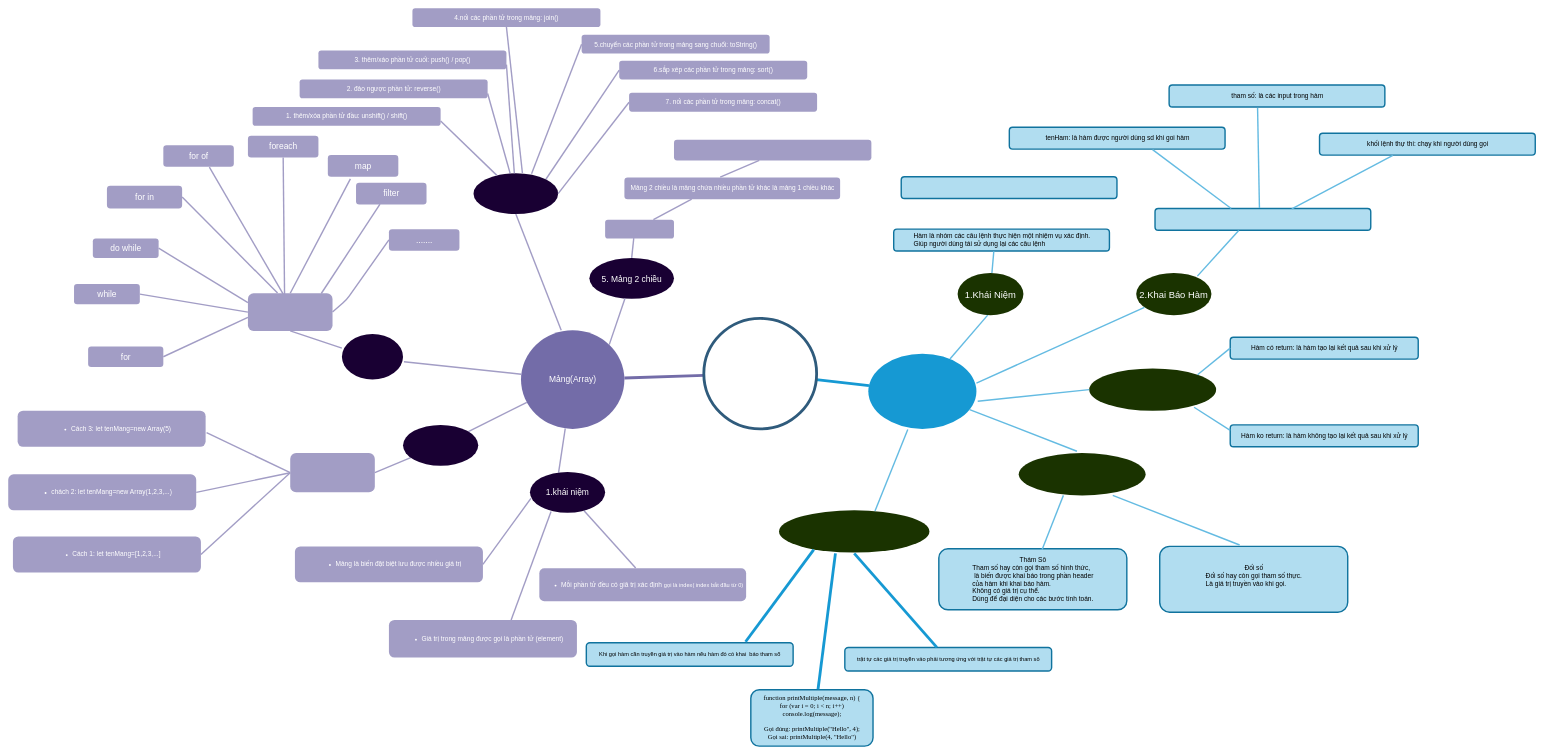
The diagram is 1544 pixels wide and 755 high, and some of its shapes have lost their labels. Here are the shapes that lost their labels. From the top down, the box of each, then its label:
(674, 140, 871, 160): duyệt mảng 2 chiều bằng nhiều vòng lặp lồng nhau
(473, 173, 558, 214): 4. Hàng Hỗ trợ cho mảng
(900, 176, 1117, 199): Giúp người dùng tái sử dụng lại các câu lệnh
(605, 219, 674, 238): Khái Niệm
(1154, 208, 1371, 231): function tenHam(tham số){khối lệnh thực thi}
(248, 293, 332, 331): Nhiều Cách (bằng vòng lặp)
(342, 334, 403, 379): 3.Duyệt Mảng
(702, 317, 818, 430): WEEK 3
(868, 353, 976, 429): Hàm(Function)
(1089, 368, 1216, 411): 3. Hàm có return và ko return
(403, 425, 478, 466): 2. Khai B áo Mảng
(290, 453, 375, 492): 3 cách
(1018, 453, 1145, 495): 4. Tham số và đối số
(779, 510, 929, 552): 5. Truyền tri và truyền tham chiếu
